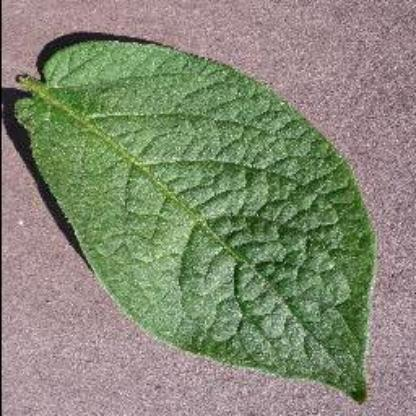Healthy-plant: (9, 28, 398, 406)
